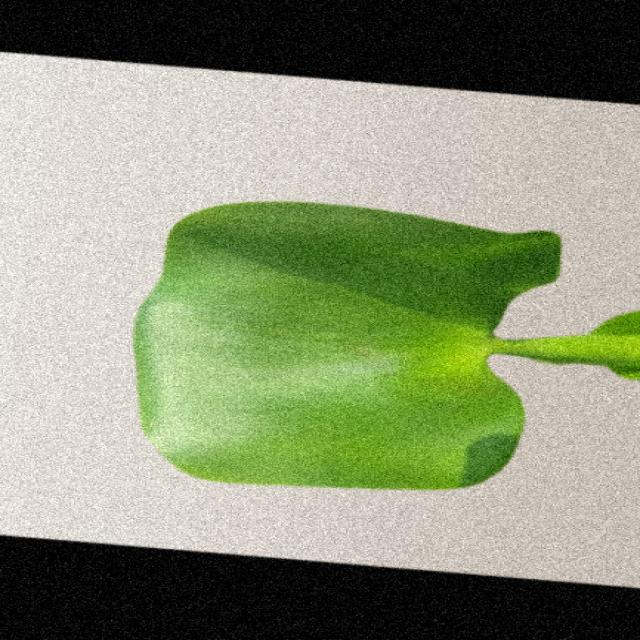daun sehat: (135, 202, 638, 489)
